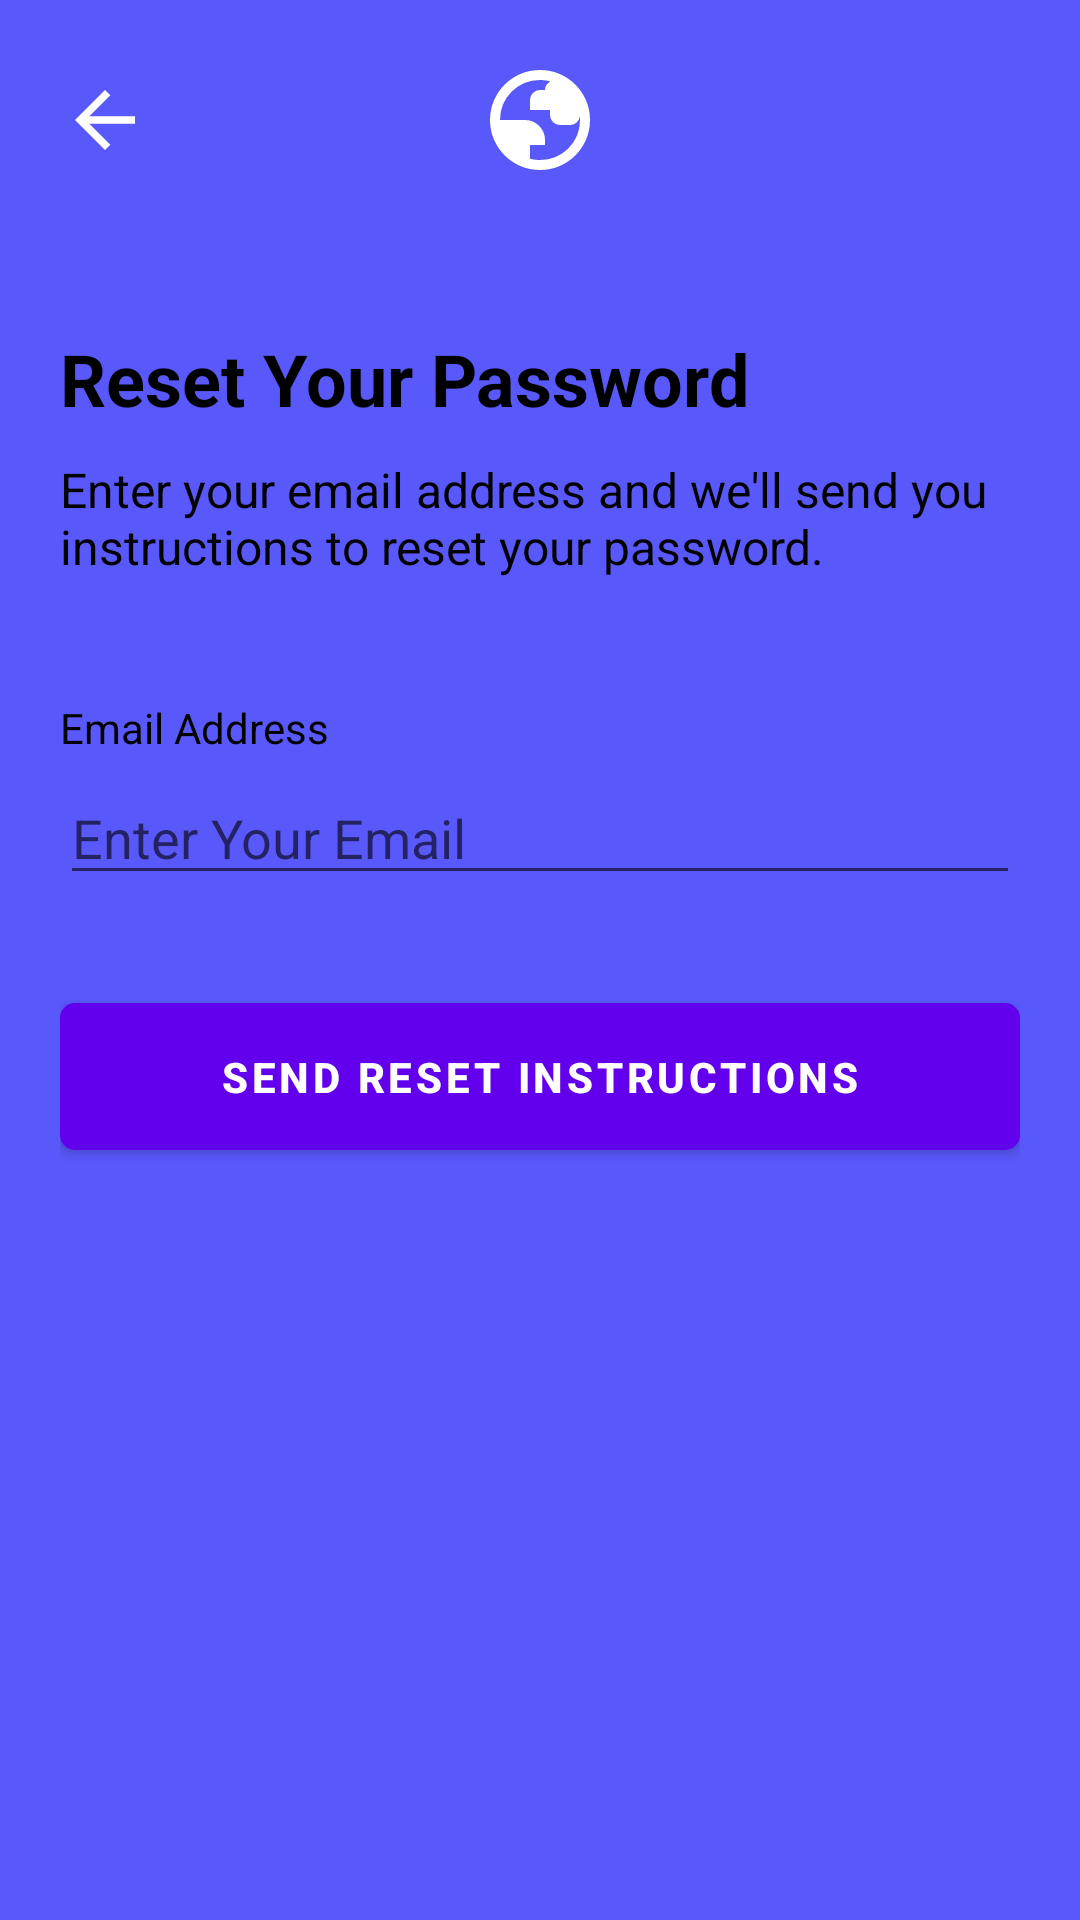

Icon click points for this 1080*1920 phone screenshot, format (x,y):
back: (105,120)
globe: (540,120)
